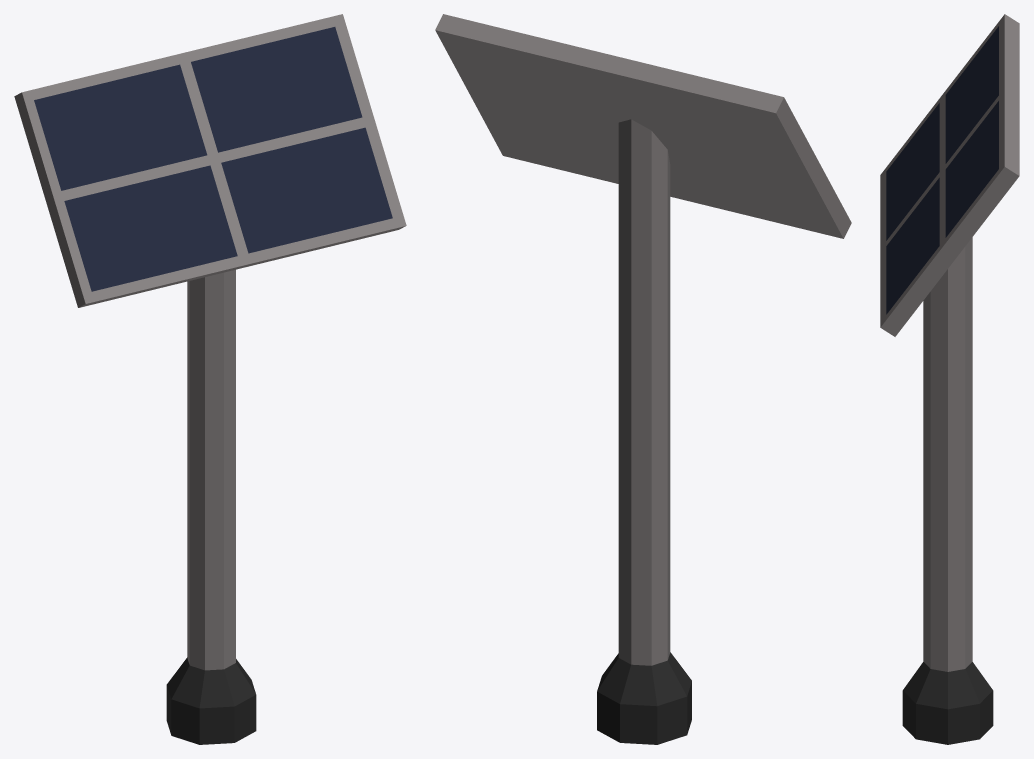
File: scifi_scifi-solar-panel-small.fbx
3 renders of one model, left to right at view 1: azimuth 30°, elevation 25°; view 2: azimuth 150°, elevation 25°; view 3: azimuth 270°, elevation 25°, orthographic. The views are drawn at different scales.
Parts seen in each view (by area): view 1: scifi_scifi_solar_panel_small; view 2: scifi_scifi_solar_panel_small; view 3: scifi_scifi_solar_panel_small.
Boxes of the visible parts, x1,y1,x2,y2 form: scifi_scifi_solar_panel_small: (14, 14, 406, 744); scifi_scifi_solar_panel_small: (435, 14, 851, 744); scifi_scifi_solar_panel_small: (880, 14, 1019, 744).
Size of the model in its own units: 103 by 200 by 39.71.
